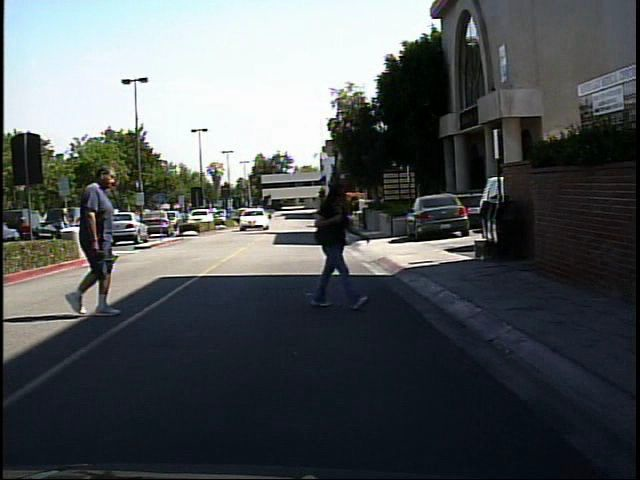person: (55, 163, 140, 322), (302, 175, 380, 315), (54, 203, 73, 256)
